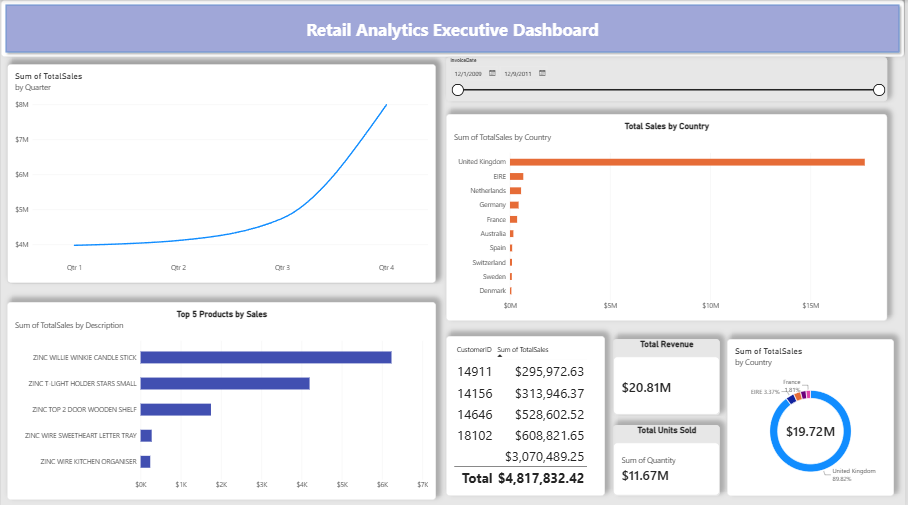

Layout of this report page (visuals, bound fields, positions):
{"tool":"powerbi","page":{"name":"Page 1","canvas":[1920,1080],"ordinal":0},"visuals":[{"type":"cardVisual","title":"Total Revenue","fields":{"Data":["Sum(retail_clean_master.TotalSales)"]},"box":[1301.1,720.7,227.5,161.6],"z":0},{"type":"barChart","title":"Top 5 Products by Sales","fields":{"Category":["retail_clean_master.Description"],"Y":["Sum(retail_clean_master.TotalSales)"]},"box":[12.8,642,912,420.9],"z":1000},{"type":"clusteredBarChart","title":"Total Sales by Country","fields":{"Category":["retail_clean_master.Country"],"Y":["Sum(retail_clean_master.TotalSales)"]},"box":[946.1,242.4,937.6,440.1],"z":2000},{"type":"slicer","fields":{"Values":["retail_clean_master.InvoiceDate"]},"box":[946.1,121.2,937.6,93.5],"z":3000},{"type":"lineChart","fields":{"Category":["retail_clean_master.InvoiceDate.Variation.Date Hierarchy.Year","retail_clean_master.InvoiceDate.Variation.Date Hierarchy.Quarter","retail_clean_master.InvoiceDate.Variation.Date Hierarchy.Month","retail_clean_master.InvoiceDate.Variation.Date Hierarchy.Day"],"Y":["Sum(retail_clean_master.TotalSales)"]},"box":[12.8,136.1,912,465.6],"z":4000},{"type":"cardVisual","title":"Total Units Sold","fields":{"Data":["Sum(retail_clean_master.Quantity)"]},"box":[1301.1,903.5,227.5,150.9],"z":5000},{"type":"tableEx","fields":{"Values":["retail_clean_master.CustomerID","Sum(retail_clean_master.TotalSales)"]},"box":[946.1,714.3,338,340.2],"z":6000},{"type":"textbox","box":[0,0,1919.8,121.2],"z":7001},{"type":"shape","box":[0,0,1919.8,121.2],"z":7002},{"type":"donutChart","fields":{"Category":["retail_clean_master.Country"],"Y":["Sum(retail_clean_master.TotalSales)"]},"box":[1543.5,720.7,355,333.8],"z":7003}]}

Visuals, with their boxes in screenshot pixels (x1, y1, x2, y2), scaled from the page's 1920x1080 canvas onto the 908x505 screenshot:
"Total Revenue" cardVisual: box(615, 337, 723, 413)
"Top 5 Products by Sales" barChart: box(6, 300, 437, 497)
"Total Sales by Country" clusteredBarChart: box(447, 113, 891, 319)
slicer - retail_clean_master.InvoiceDate: box(447, 57, 891, 100)
lineChart - retail_clean_master.InvoiceDate.Variation.Date Hierarchy.Year x retail_clean_master.InvoiceDate.Variation.Date Hierarchy.Quarter: box(6, 64, 437, 281)
"Total Units Sold" cardVisual: box(615, 422, 723, 493)
tableEx - retail_clean_master.CustomerID x Sum(retail_clean_master.TotalSales): box(447, 334, 607, 493)
textbox: box(0, 0, 907, 57)
shape: box(0, 0, 907, 57)
donutChart - retail_clean_master.Country x Sum(retail_clean_master.TotalSales): box(730, 337, 898, 493)
